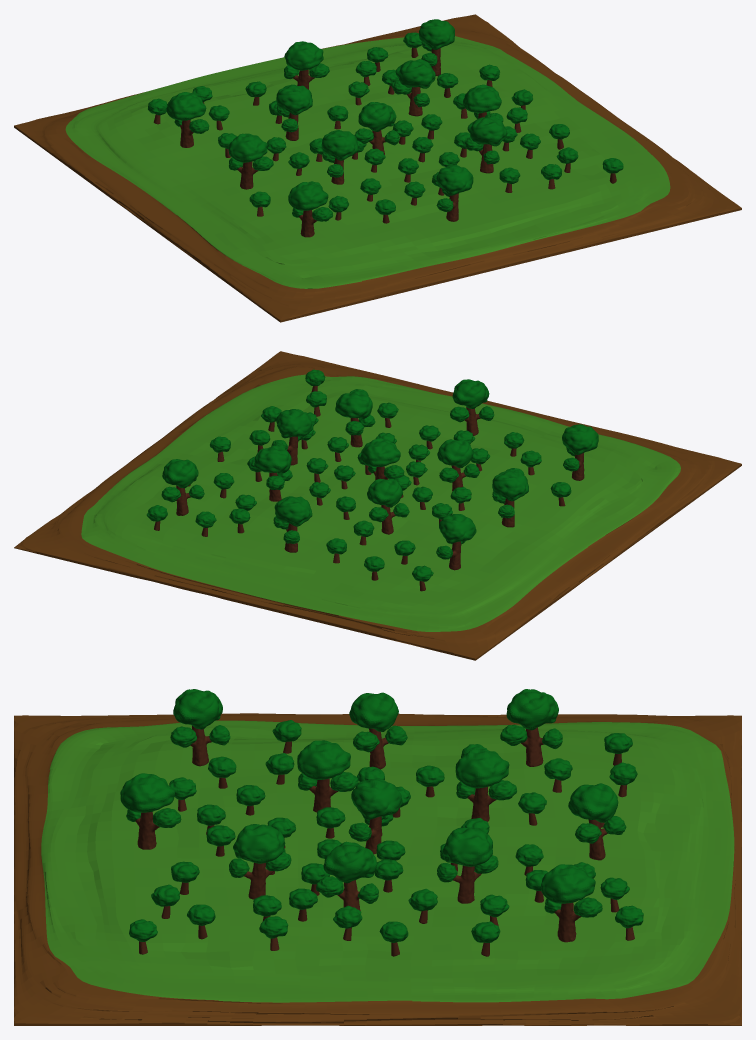
File: forest tile.fbx
The picture shows the model from 3 angles, top to bottom: view 1: azimuth 30°, elevation 25°; view 2: azimuth 150°, elevation 25°; view 3: azimuth 270°, elevation 25°; orthographic projection. The views are drawn at different scales.
Visible parts, largest first — view 1: Cube; view 2: Cube; view 3: Cube.
Part boxes in pixels (bbox=[...]): Cube: bbox=[14, 14, 741, 322]; Cube: bbox=[14, 351, 741, 660]; Cube: bbox=[14, 689, 741, 1025].
Bounding box in the file's own units: 8008 × 8000 × 1080.
